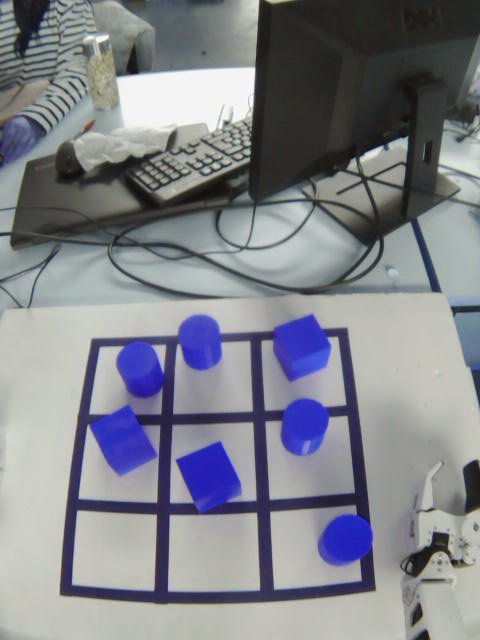cube: (79, 401, 164, 483), (170, 433, 248, 521), (264, 308, 340, 387)
cylinder: (312, 504, 383, 579), (272, 393, 337, 463), (107, 337, 175, 403), (170, 309, 230, 376)
empty: (161, 504, 268, 603), (66, 503, 166, 599)
